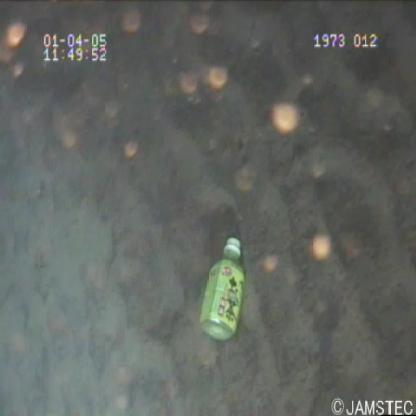Rác: (197, 228, 258, 346)
